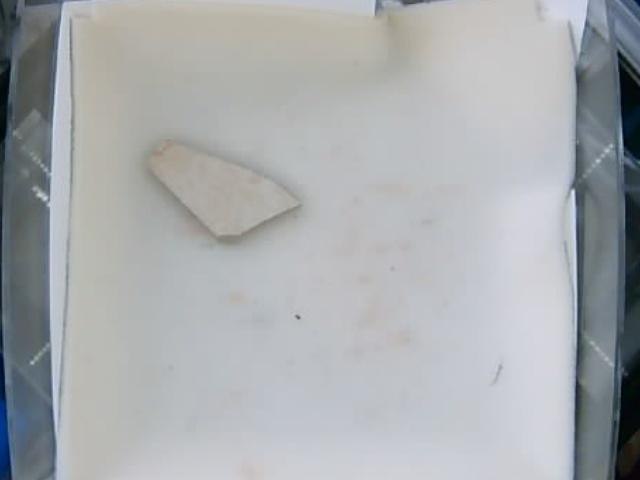China: (146, 141, 302, 240)
